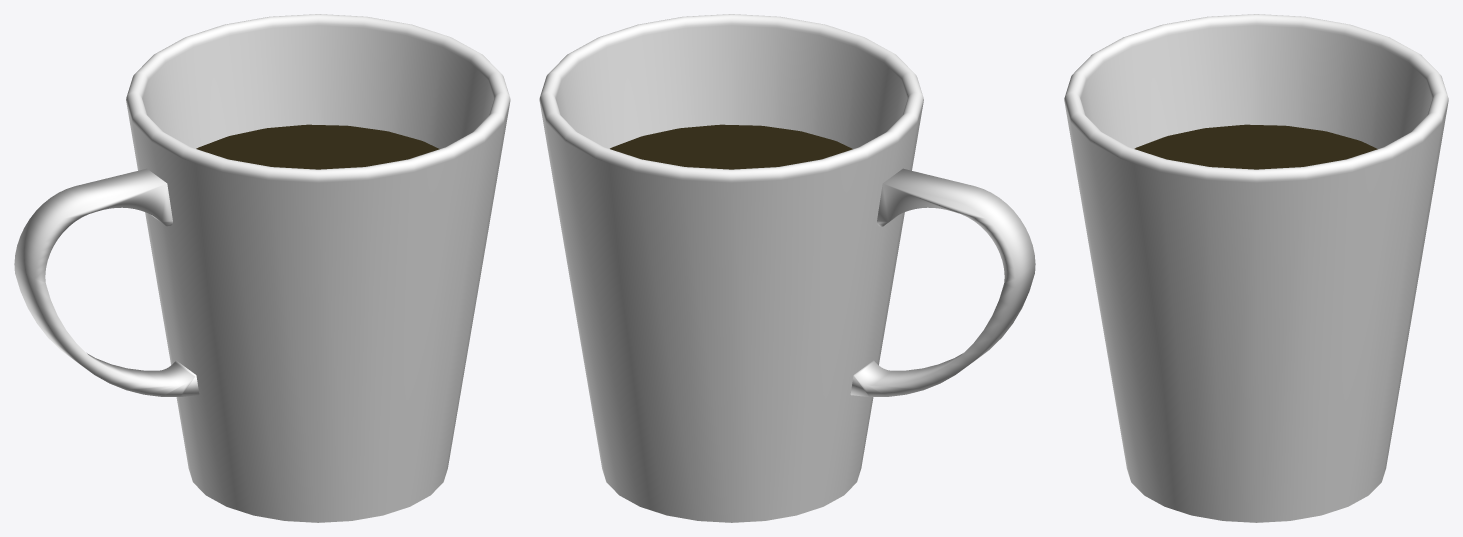
File: cup.dae
3 views of the same model, side by side, from view 1: azimuth 30°, elevation 25°; view 2: azimuth 150°, elevation 25°; view 3: azimuth 270°, elevation 25° (orthographic).
Parts seen in each view (by area): view 1: SketchUp (×2), handtag; view 2: SketchUp (×2), handtag; view 3: SketchUp (×2).
Boxes of the visible parts, x1,y1,x2,y2 form: SketchUp (×2): (126, 14, 510, 522); handtag: (14, 168, 199, 396); SketchUp (×2): (539, 14, 923, 522); handtag: (850, 168, 1035, 396); SketchUp (×2): (1064, 14, 1448, 522).
Bounding box in the file's own units: 5.15 × 3.73 × 4.02.
